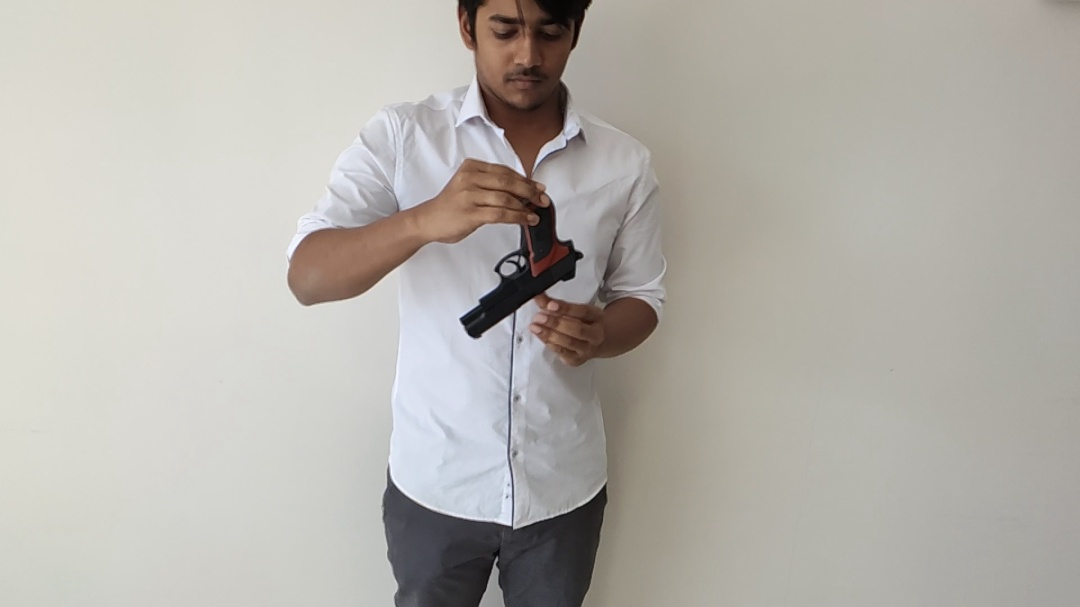gun: (460, 192, 586, 339)
